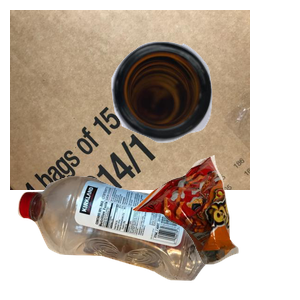cardboard: (10, 10, 250, 190)
glass: (109, 39, 300, 175)
plastic: (15, 173, 222, 300)
trash: (130, 153, 300, 300)
